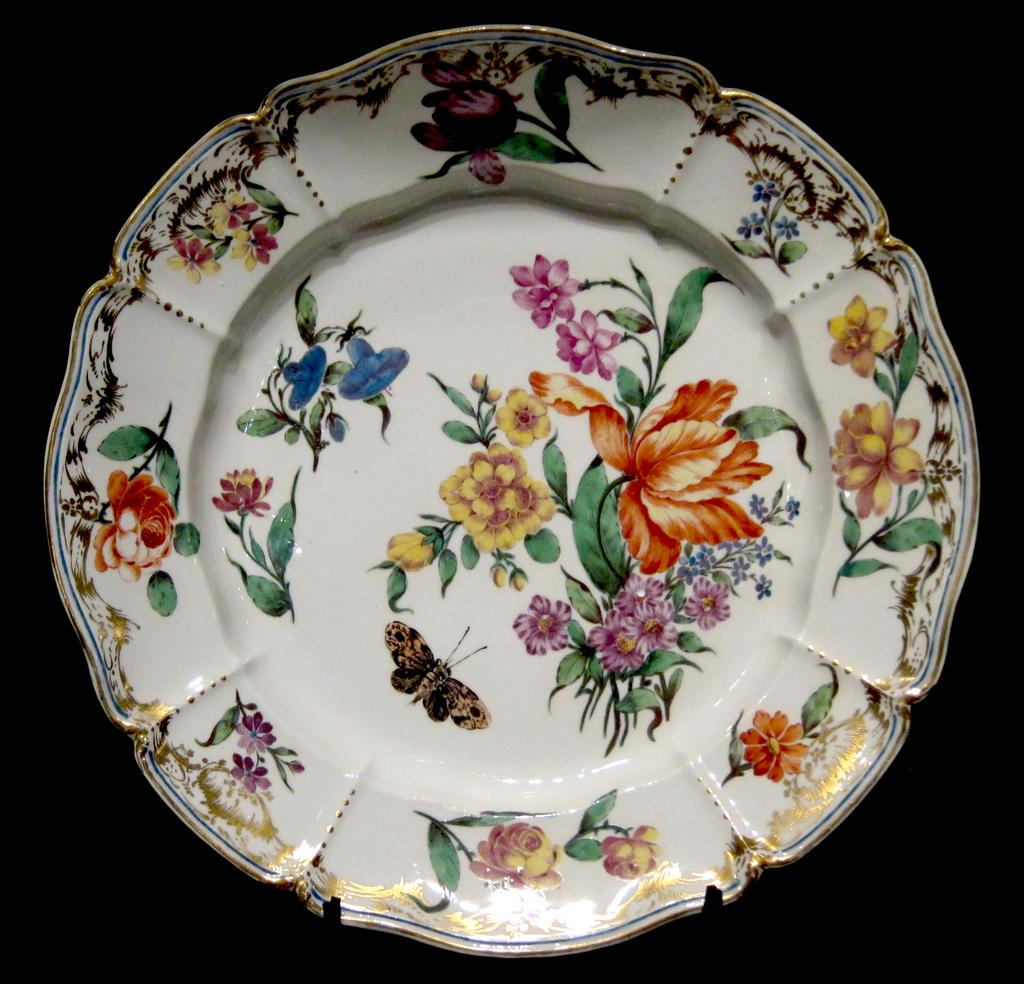plate: (43, 24, 980, 956)
